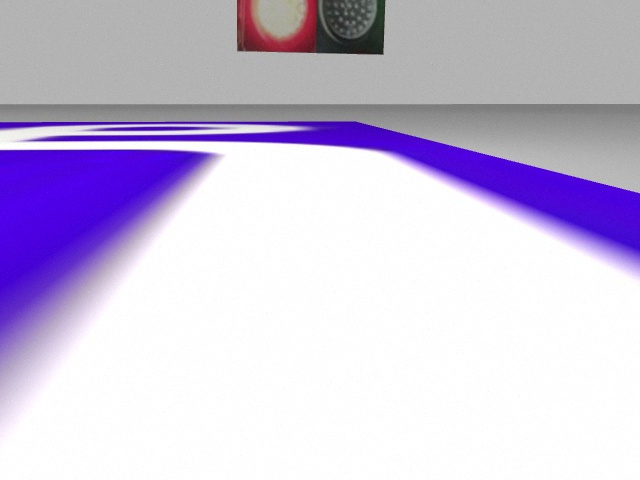red: (236, 1, 318, 52)
